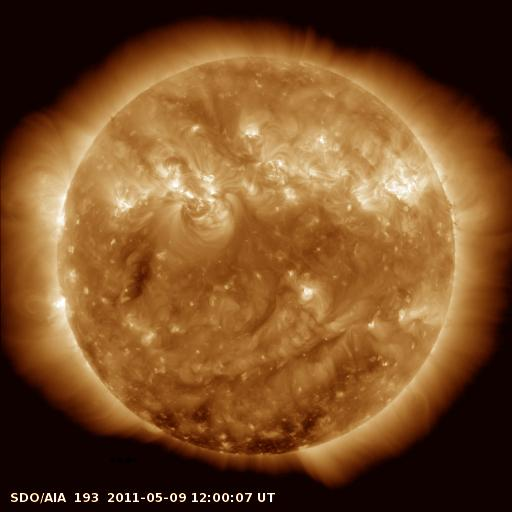coronal_hole: (148, 408, 327, 457)
